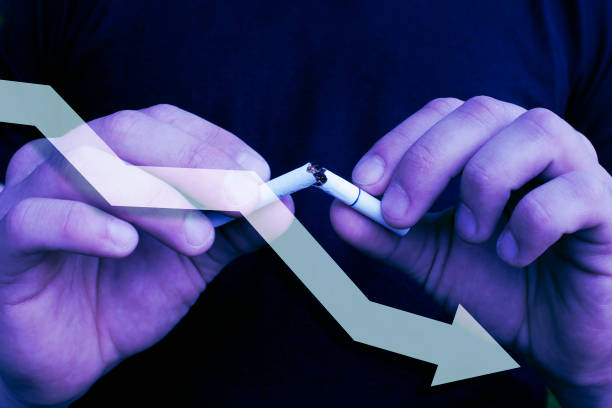cigarette: (202, 162, 319, 229), (310, 167, 413, 237)
